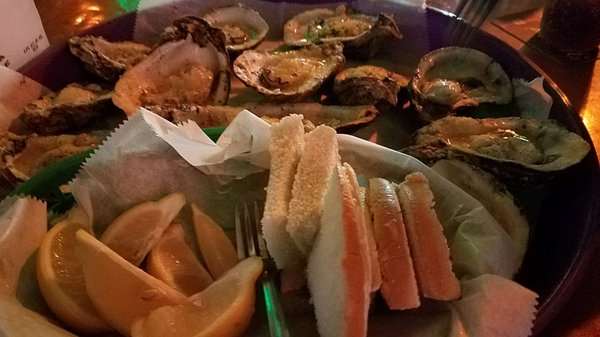pizza: (528, 1, 600, 66)
